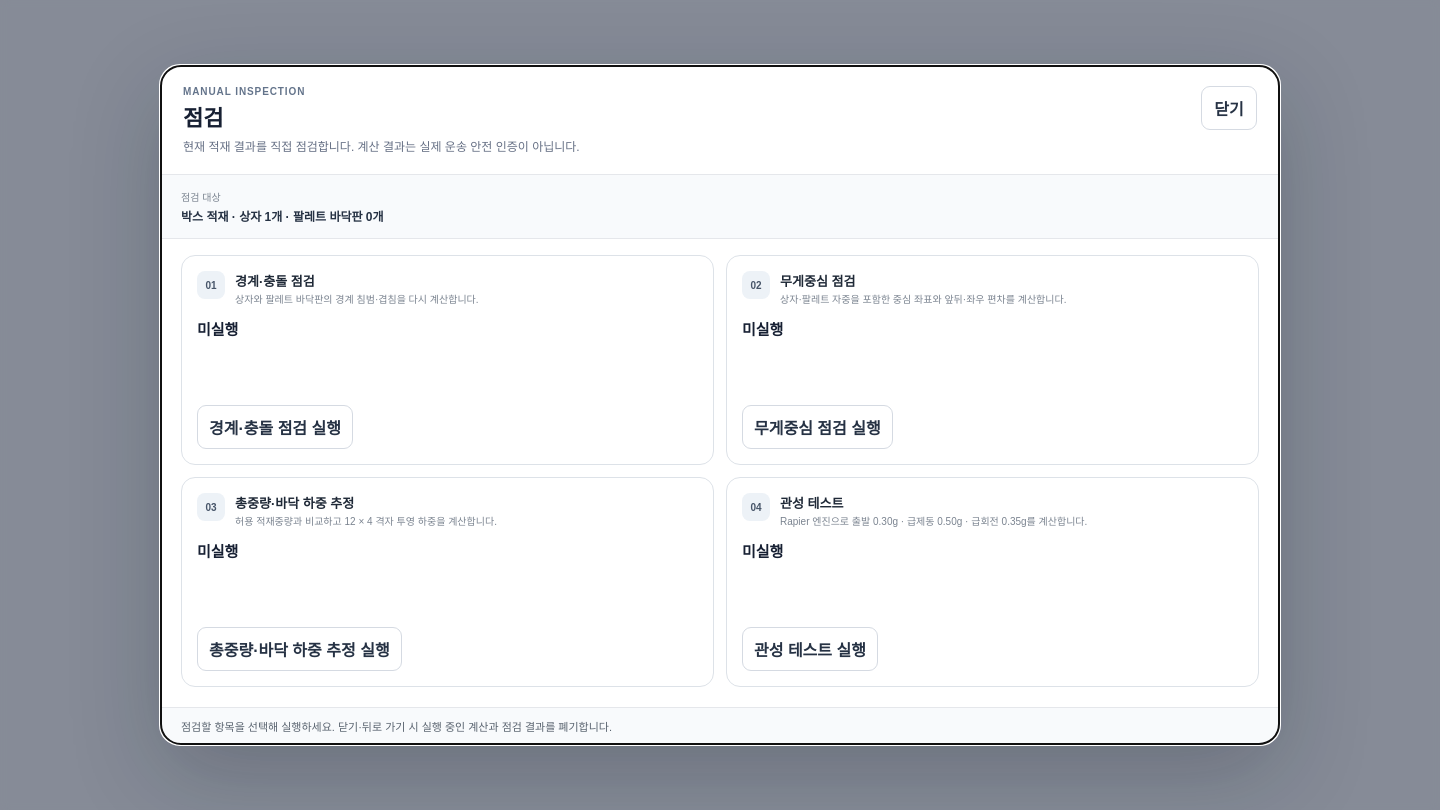
Test: manual inspection lifecycle › keeps a valid run when adapters re-announce identical equipment
The width and height of the screenshot is (1440, 810).
Click the button "관성 테스트 실행". click: (810, 649)
box: [742,627,878,671]
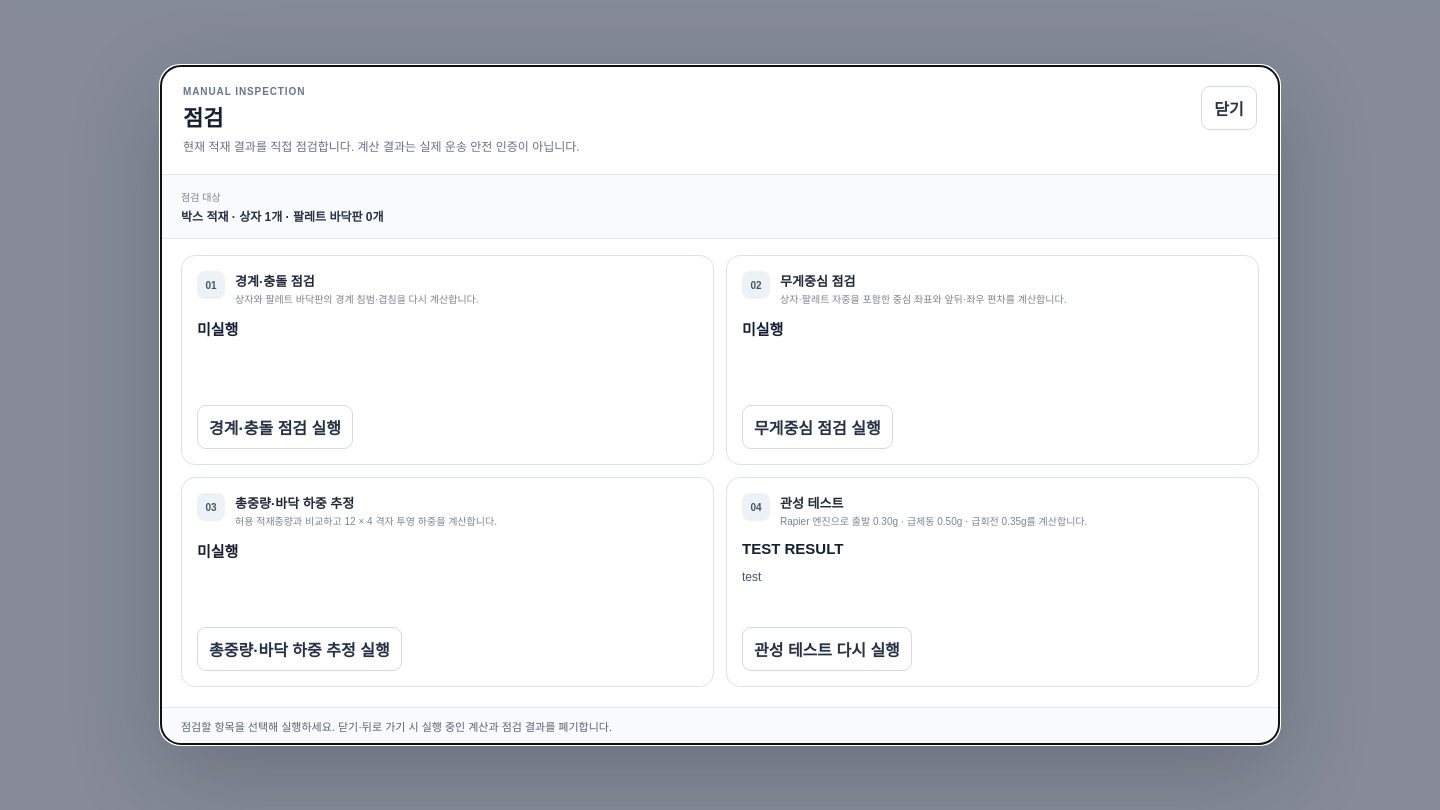
expect the text "TEST RESULT" is shown: met, box [742,540,843,556]
